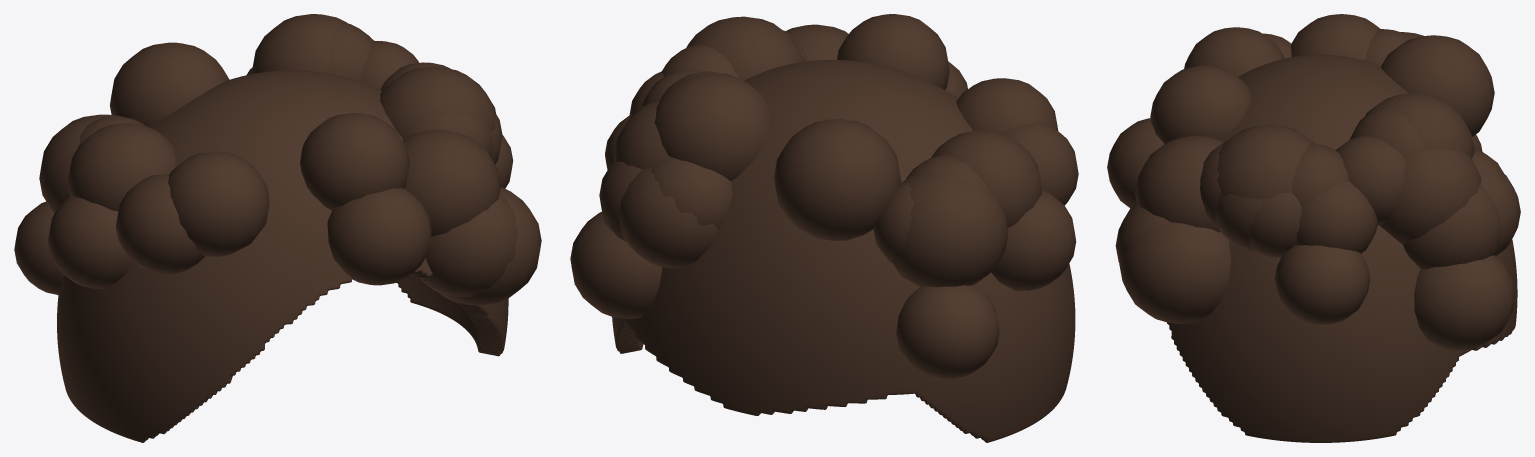
Rendered from hair-curly.glb.
The picture shows the model from 3 angles, left to right: view 1: azimuth 30°, elevation 25°; view 2: azimuth 150°, elevation 25°; view 3: azimuth 270°, elevation 25°; orthographic projection. The views are drawn at different scales.
Visible parts, largest first — view 1: Hair crown, Hair curl.010, Hair curl, Hair curl.003, Hair curl.005, Hair curl.016, Hair curl.006, Hair curl.023, Hair curl.013, Hair curl.014, Hair curl.021, Hair curl.018 (+8 smaller); view 2: Hair crown, Hair curl.016, Hair curl.015, Hair curl.018, Hair curl.028, Hair curl.024, Hair curl.004, Hair curl.014, Hair curl.003, Hair curl.006, Hair curl.021, Hair curl.010 (+10 smaller); view 3: Hair crown, Hair curl.012, Hair curl.024, Hair curl.016, Hair curl.027, Hair curl.003, Hair curl.009, Hair curl.021, Hair curl.005, Hair curl.008, Hair curl.017, Hair curl.011 (+13 smaller).
Boxes of the visible parts, <box> form: Hair crown: <box>57,70,508,442</box>; Hair curl.010: <box>168,151,269,256</box>; Hair curl: <box>327,188,431,285</box>; Hair curl.003: <box>300,113,409,210</box>; Hair curl.005: <box>403,129,500,236</box>; Hair curl.016: <box>110,42,229,127</box>; Hair curl.006: <box>67,123,175,211</box>; Hair curl.023: <box>419,193,518,296</box>; Hair curl.013: <box>116,173,205,273</box>; Hair curl.014: <box>48,195,132,288</box>; Hair curl.021: <box>380,67,496,136</box>; Hair curl.018: <box>251,14,348,73</box>; Hair crown: <box>612,60,1075,442</box>; Hair curl.016: <box>774,119,901,240</box>; Hair curl.015: <box>892,174,1008,287</box>; Hair curl.018: <box>654,73,771,181</box>; Hair curl.028: <box>896,285,999,378</box>; Hair curl.024: <box>570,211,662,318</box>; Hair curl.004: <box>618,167,718,268</box>; Hair curl.014: <box>991,189,1076,290</box>; Hair curl.003: <box>836,14,949,89</box>; Hair curl.006: <box>931,130,1042,227</box>; Hair curl.021: <box>686,16,804,80</box>; Hair curl.010: <box>956,78,1058,133</box>; Hair crown: <box>1167,54,1517,442</box>; Hair curl.012: <box>1119,222,1231,323</box>; Hair curl.024: <box>1414,255,1515,350</box>; Hair curl.016: <box>1381,35,1494,136</box>; Hair curl.027: <box>1274,245,1370,324</box>; Hair curl.003: <box>1150,65,1251,144</box>; Hair curl.009: <box>1380,149,1481,243</box>; Hair curl.021: <box>1217,124,1315,199</box>; Hair curl.005: <box>1135,135,1223,232</box>; Hair curl.008: <box>1402,184,1501,269</box>; Hair curl.017: <box>1295,181,1377,253</box>; Hair curl.011: <box>1335,135,1405,225</box>.
Bounding box in the file's own units: 0.5412 × 0.3432 × 0.4444.
